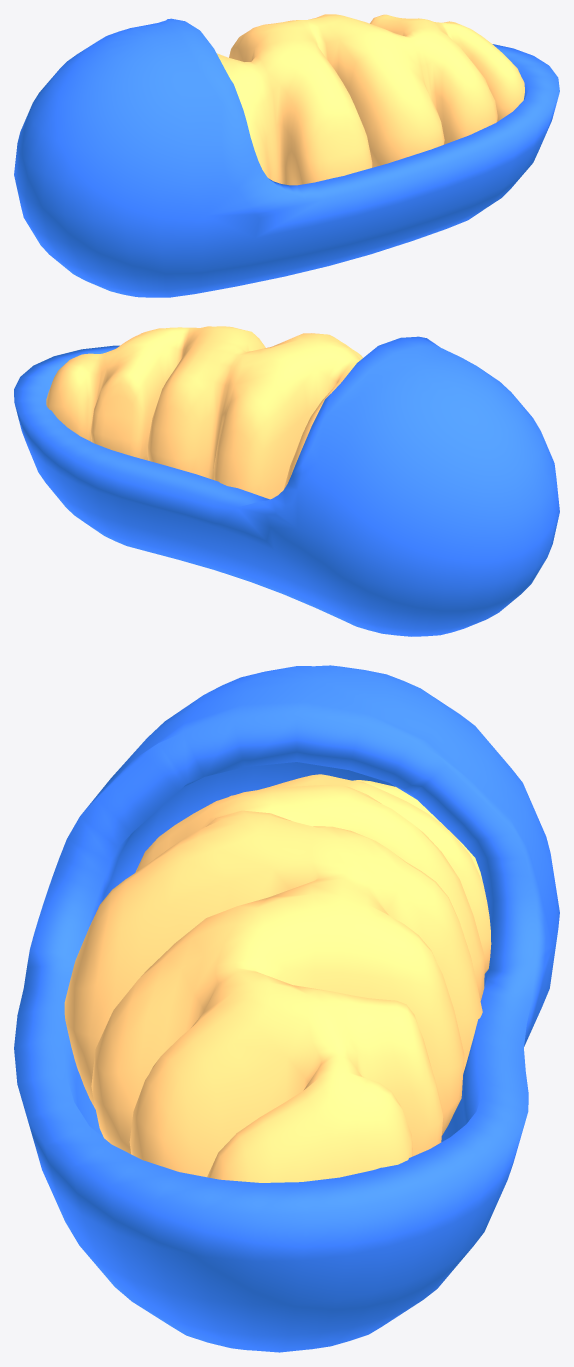
The model's file is mitochondria_selected.glb.
3 renders of one model, top to bottom at view 1: azimuth 30°, elevation 25°; view 2: azimuth 150°, elevation 25°; view 3: azimuth 270°, elevation 25°, orthographic. The views are drawn at different scales.
Visible parts, largest first — view 1: mito_outside.001, mito_inside.001; view 2: mito_outside.001, mito_inside.001; view 3: mito_outside.001, mito_inside.001.
Boxes of the visible parts, x1,y1,x2,y2 form: mito_outside.001: [14, 18, 559, 297]; mito_inside.001: [216, 14, 524, 185]; mito_outside.001: [14, 336, 559, 636]; mito_inside.001: [46, 326, 362, 499]; mito_outside.001: [14, 665, 559, 1352]; mito_inside.001: [64, 774, 491, 1182].
Bounding box in the file's own units: 0.8936 × 0.4278 × 0.462.
